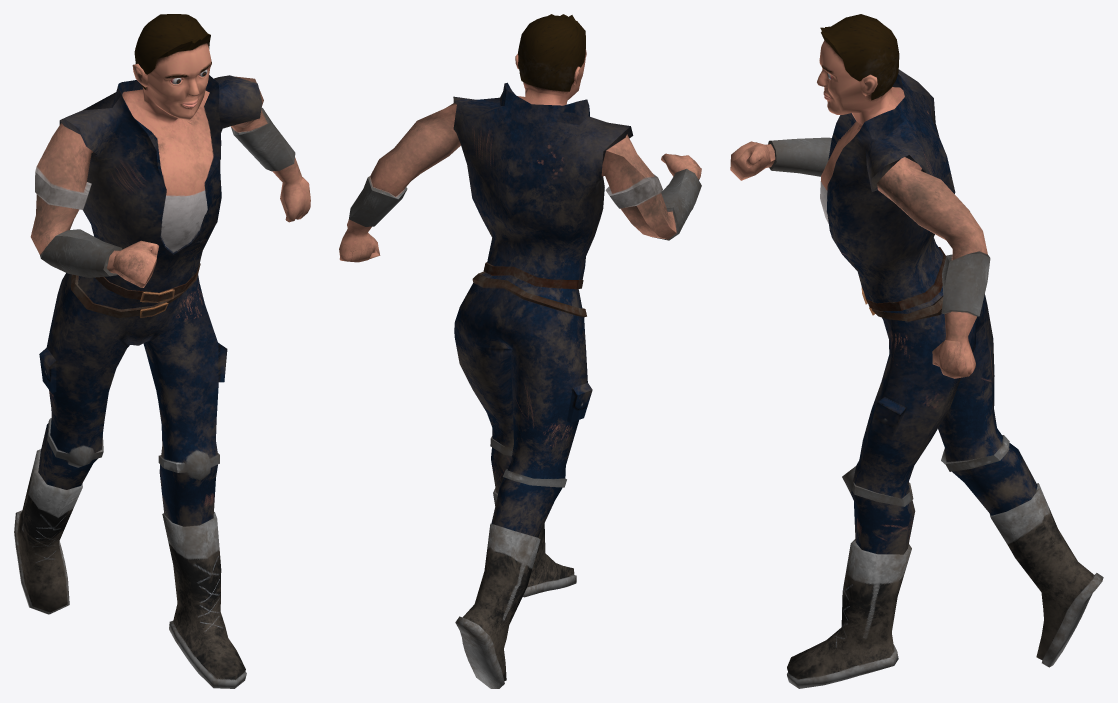
The model's file is Anim_correr_jugador.0036.obj.
3 views of the same model, side by side, from view 1: azimuth 30°, elevation 25°; view 2: azimuth 150°, elevation 25°; view 3: azimuth 270°, elevation 25° (orthographic). The views are drawn at different scales.
Parts seen in each view (by area): view 1: Anim_correr_jugador; view 2: Anim_correr_jugador; view 3: Anim_correr_jugador.
Boxes of the visible parts, x1,y1,x2,y2 form: Anim_correr_jugador: [14, 14, 310, 688]; Anim_correr_jugador: [339, 14, 701, 688]; Anim_correr_jugador: [730, 14, 1103, 688].
Size of the model in its own units: 5.02 by 9.88 by 5.06.
Materials: 2 (2 with a texture image).
